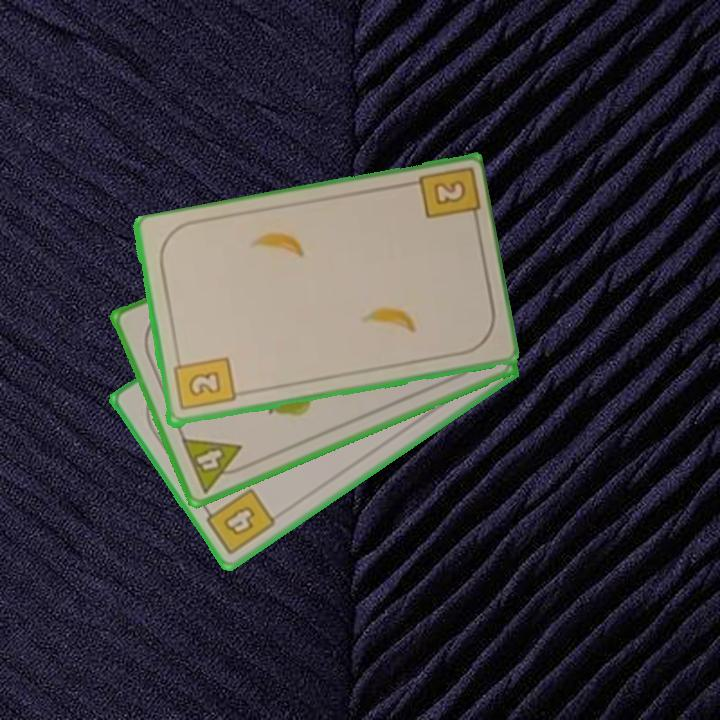2b: (169, 352, 237, 414), (429, 176, 469, 209)
4b: (198, 485, 279, 558)
4p: (177, 434, 252, 496)
